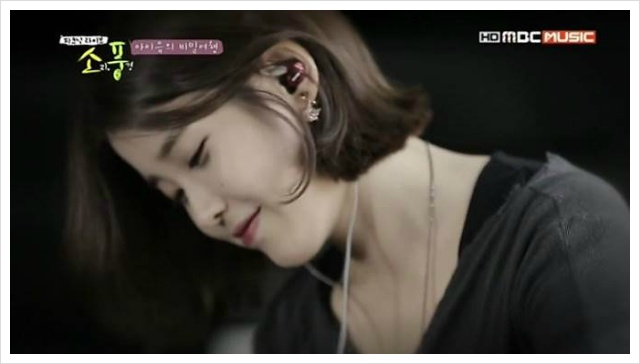earphone: (261, 40, 318, 116)
